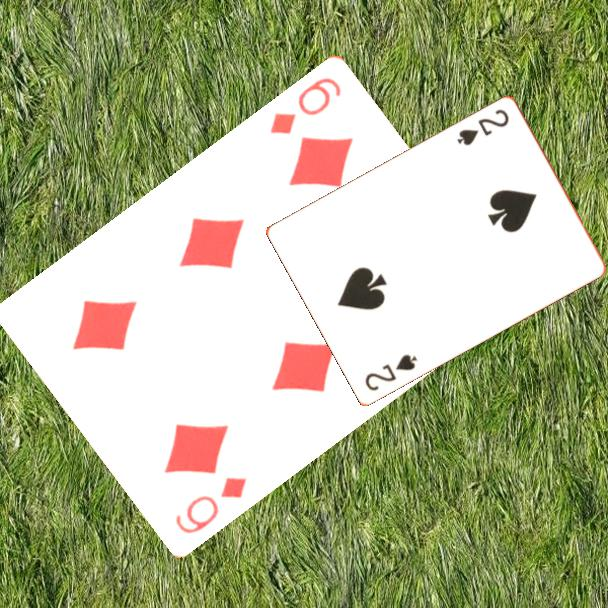d06: (171, 472, 250, 537), (266, 73, 345, 137)
s02: (453, 105, 512, 148), (361, 350, 420, 393)
